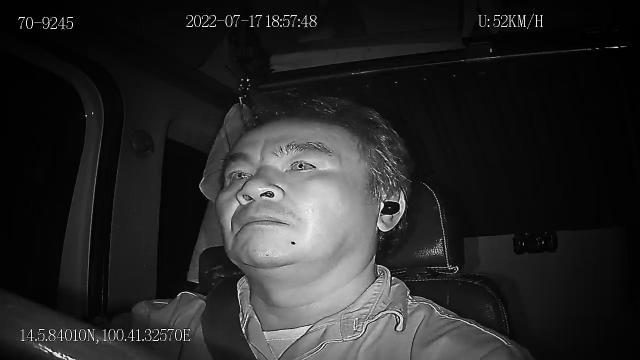SafeDriving: (278, 148, 324, 178), (220, 157, 256, 188)
Seatbelt: (200, 272, 260, 360)
